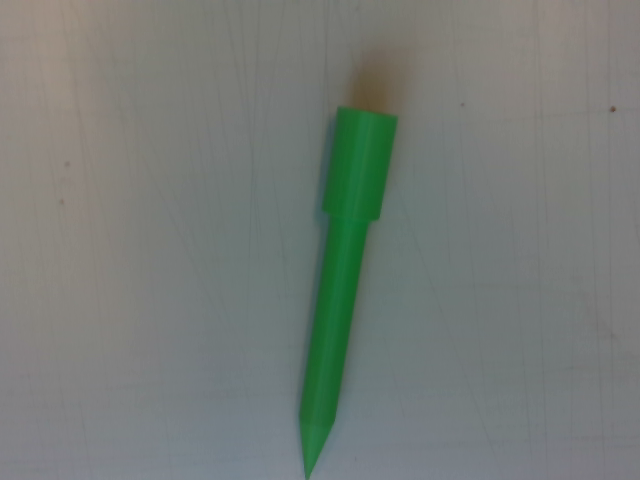Probe: (294, 101, 405, 479)
